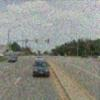cars: (8, 56, 18, 63)
